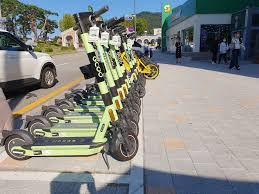kick_body: (33, 137, 98, 155), (52, 123, 101, 135), (63, 113, 104, 121)
kick_handler: (71, 7, 109, 31)
kick_wheel: (2, 129, 30, 159), (112, 132, 138, 159), (27, 116, 49, 136)
